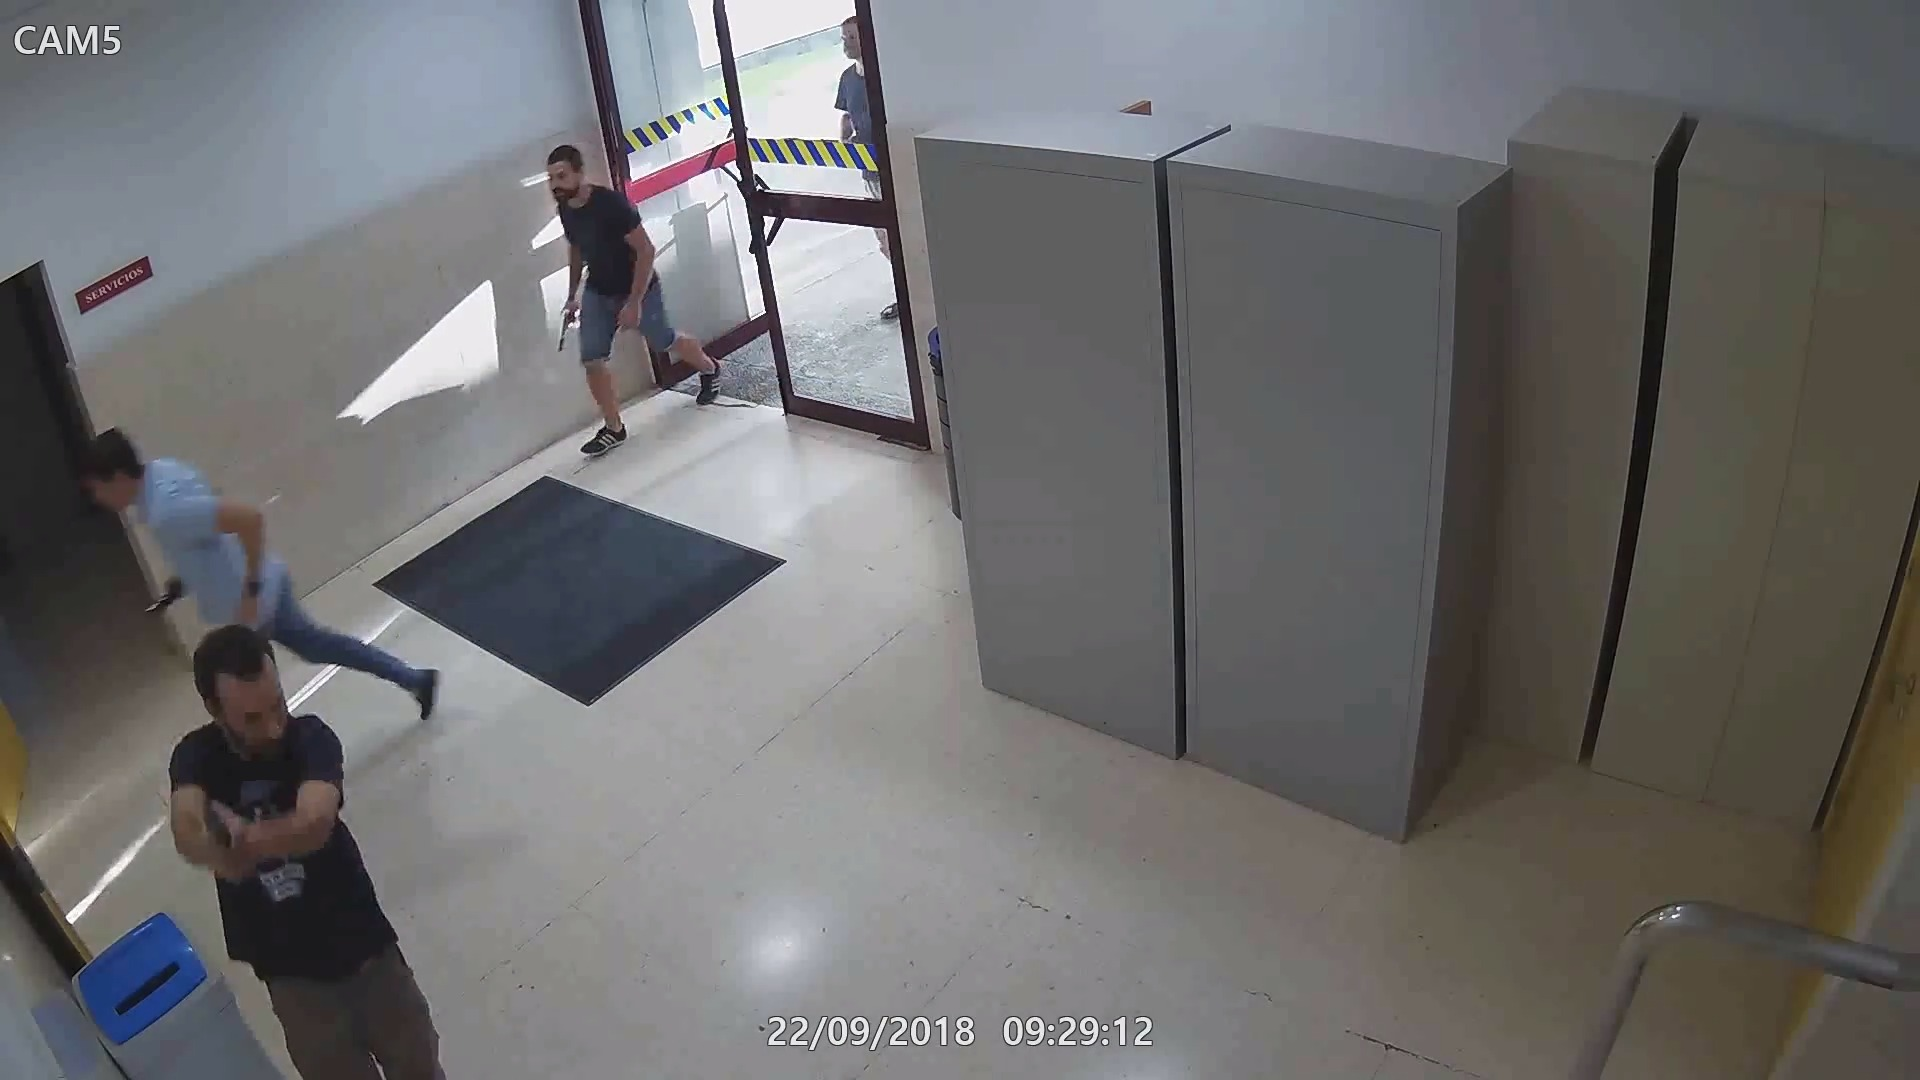Handgun: (194, 793, 244, 877), (555, 295, 582, 355)
